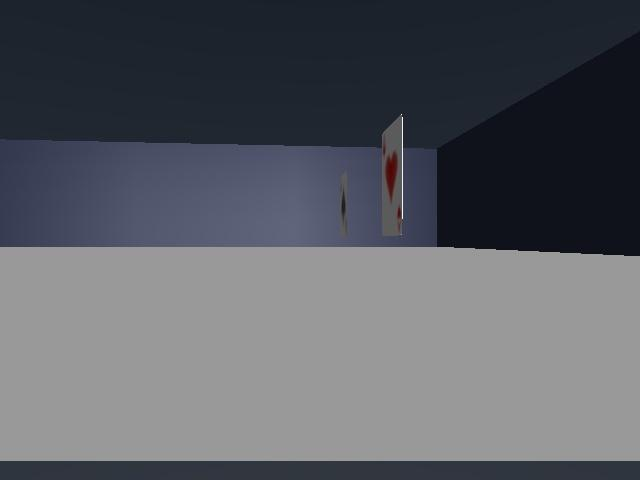club: (340, 171, 346, 236)
heart: (382, 116, 402, 235)
